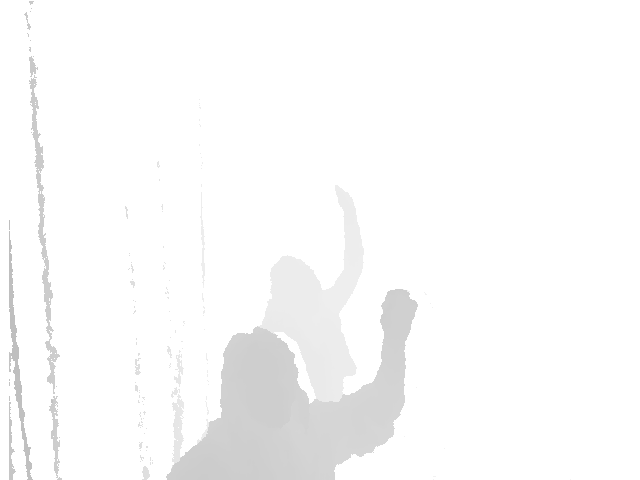hand: (379, 288, 418, 343), (334, 184, 356, 219)
head: (219, 326, 308, 435), (269, 255, 321, 308)
person: (162, 288, 419, 480), (258, 184, 366, 403)
